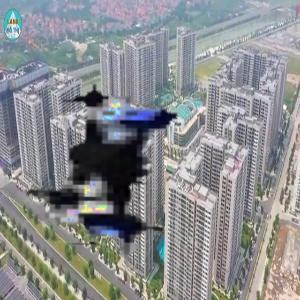drone: (22, 31, 289, 298)
